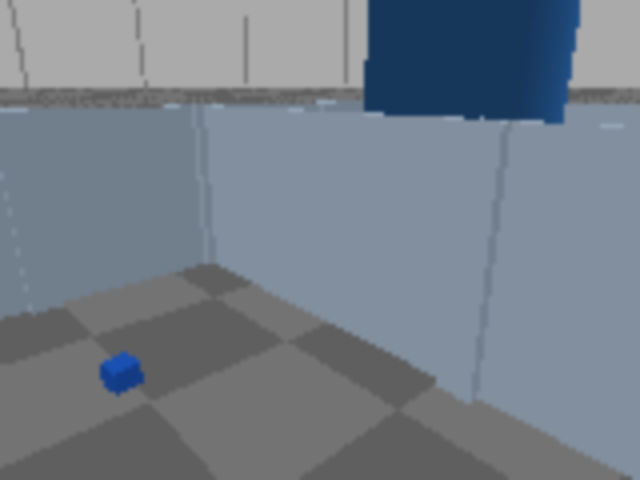person: (380, 0, 638, 305)
puck: (99, 352, 144, 396)
